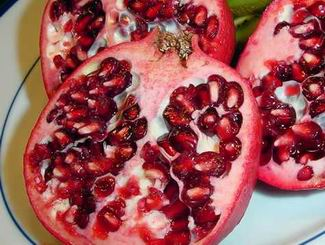pomogranate: (22, 27, 261, 244), (39, 0, 238, 106), (237, 1, 324, 192)
